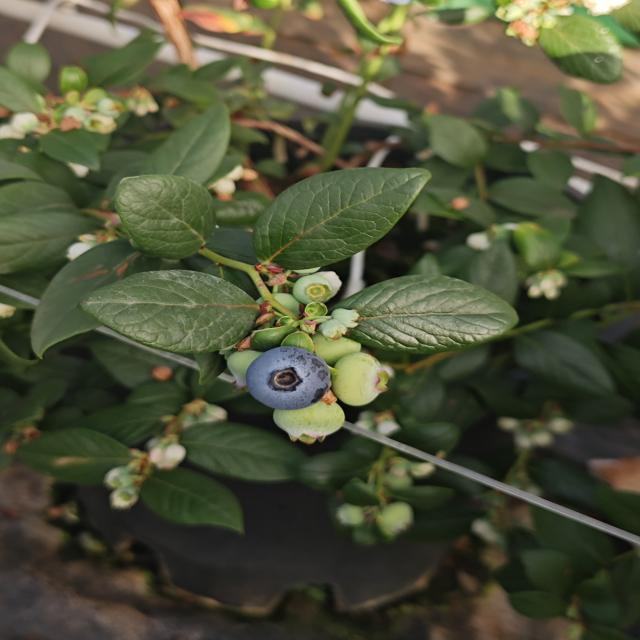ripe: (242, 345, 334, 412)
